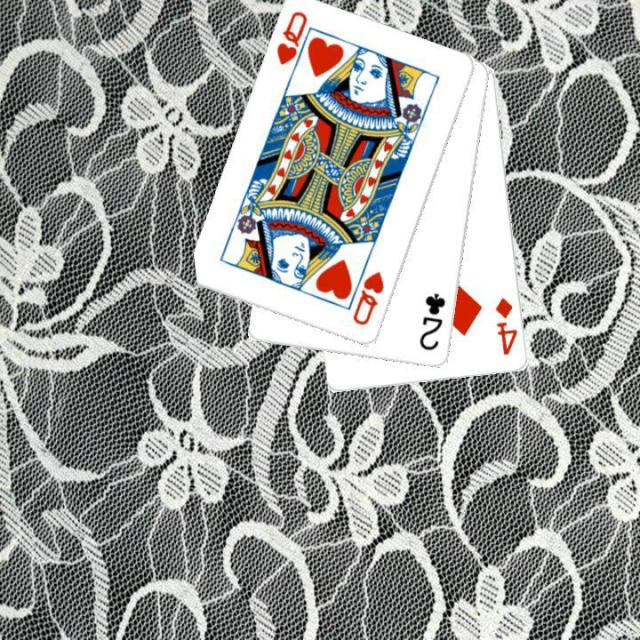2C: (416, 290, 448, 353)
4D: (492, 294, 519, 358)
QH: (273, 7, 315, 79), (349, 268, 387, 328)
